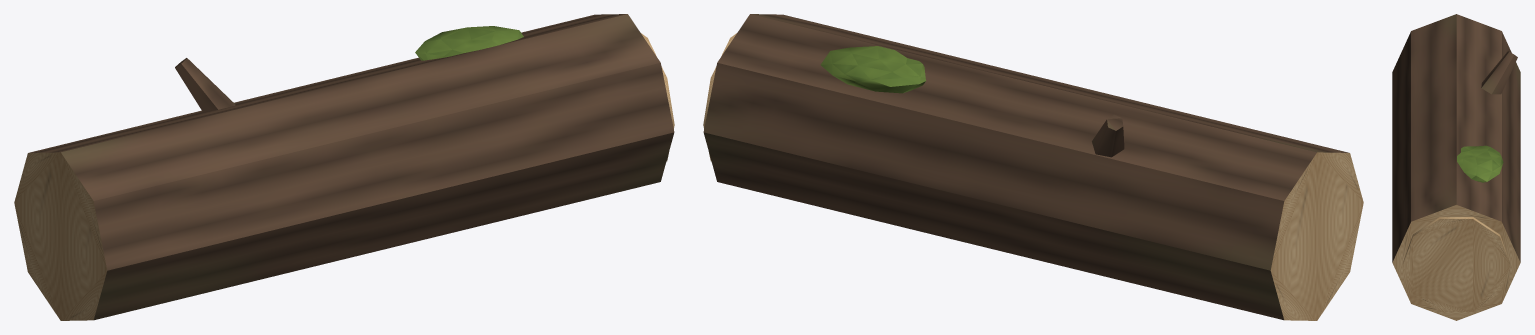
Rendered from SM_Lobby_BigLog.fbx.
The picture shows the model from 3 angles, left to right: view 1: azimuth 30°, elevation 25°; view 2: azimuth 150°, elevation 25°; view 3: azimuth 270°, elevation 25°; orthographic projection. The views are drawn at different scales.
Visible parts, largest first — view 1: SM_Lobby_BigLog; view 2: SM_Lobby_BigLog; view 3: SM_Lobby_BigLog.
Boxes of the visible parts, x1,y1,x2,y2 form: SM_Lobby_BigLog: [14, 14, 674, 320]; SM_Lobby_BigLog: [703, 14, 1363, 320]; SM_Lobby_BigLog: [1392, 14, 1520, 320].
Size of the model in its own units: 8.92 by 2.88 by 2.5.
Materials: 1 (1 with a texture image).
